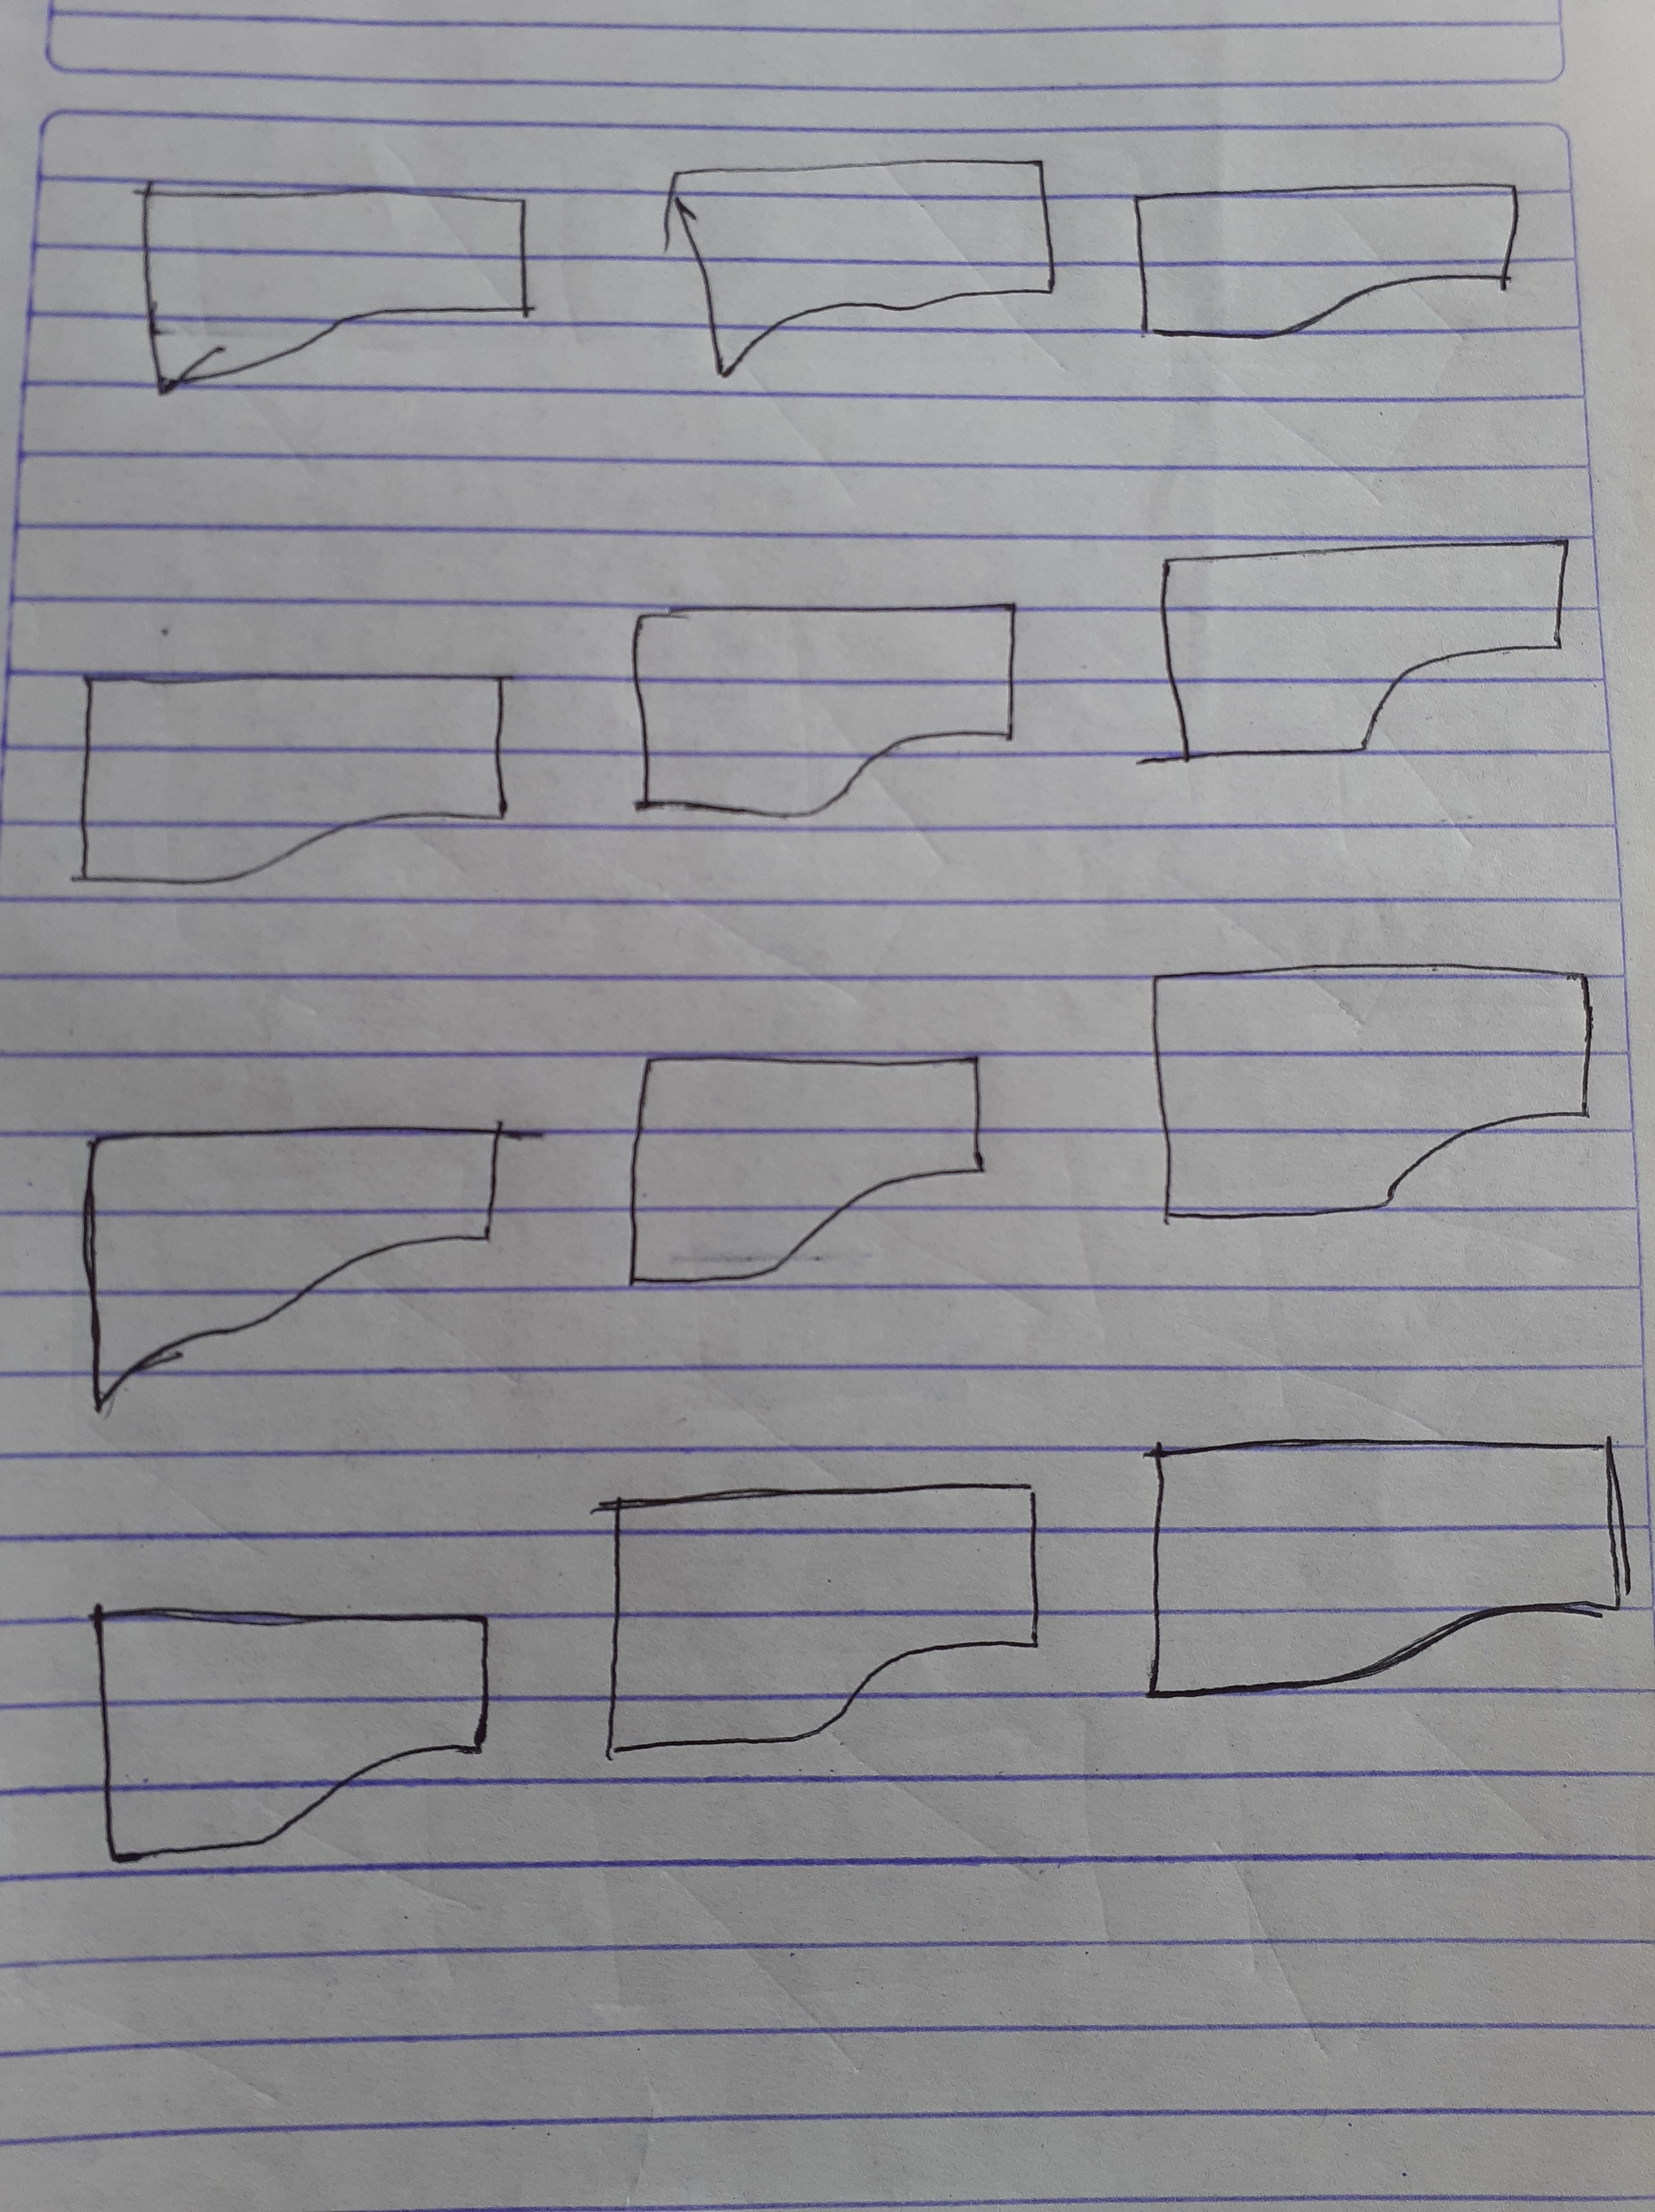print: (1127, 1397, 1650, 1722), (49, 1093, 544, 1423), (1100, 945, 1620, 1246), (52, 617, 537, 938), (61, 1557, 522, 1892), (591, 1468, 1066, 1772), (106, 125, 562, 440), (1100, 506, 1606, 787), (595, 556, 1043, 855), (628, 137, 1076, 396), (608, 1006, 1003, 1296), (1120, 141, 1556, 360)
